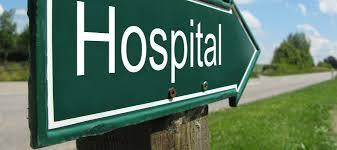Hospital: (61, 0, 240, 78)
